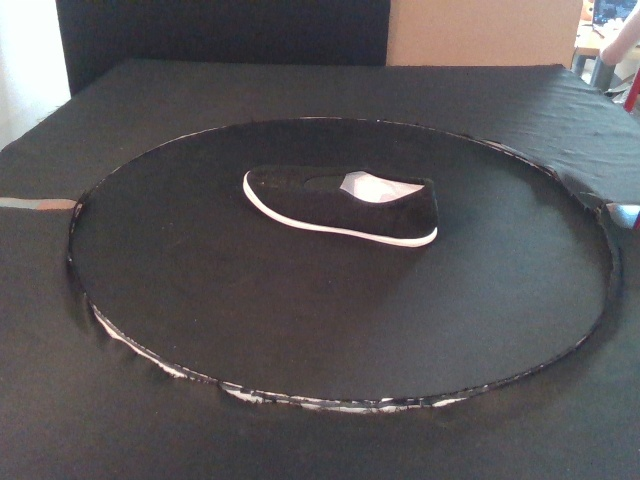shoe: (243, 166, 440, 249)
